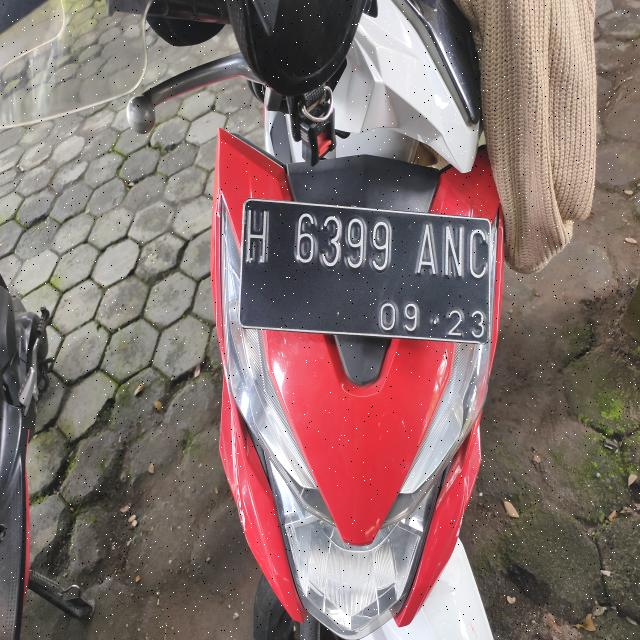plate: (240, 200, 490, 343)
